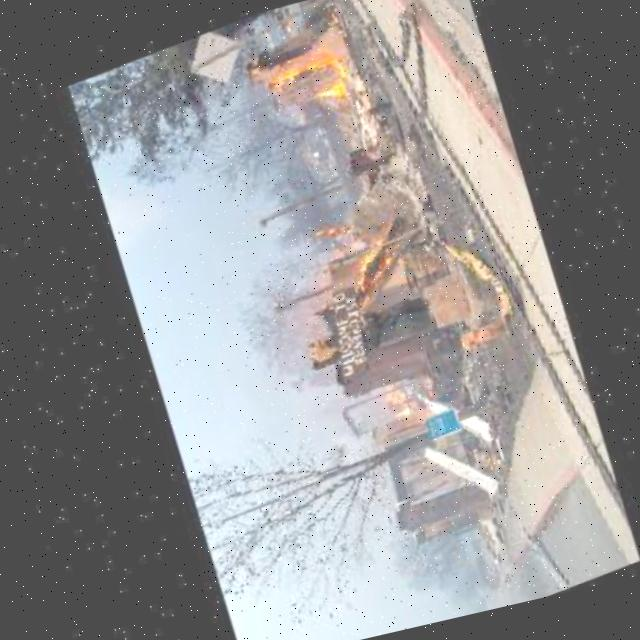fire: (237, 26, 368, 132), (315, 206, 423, 317)
